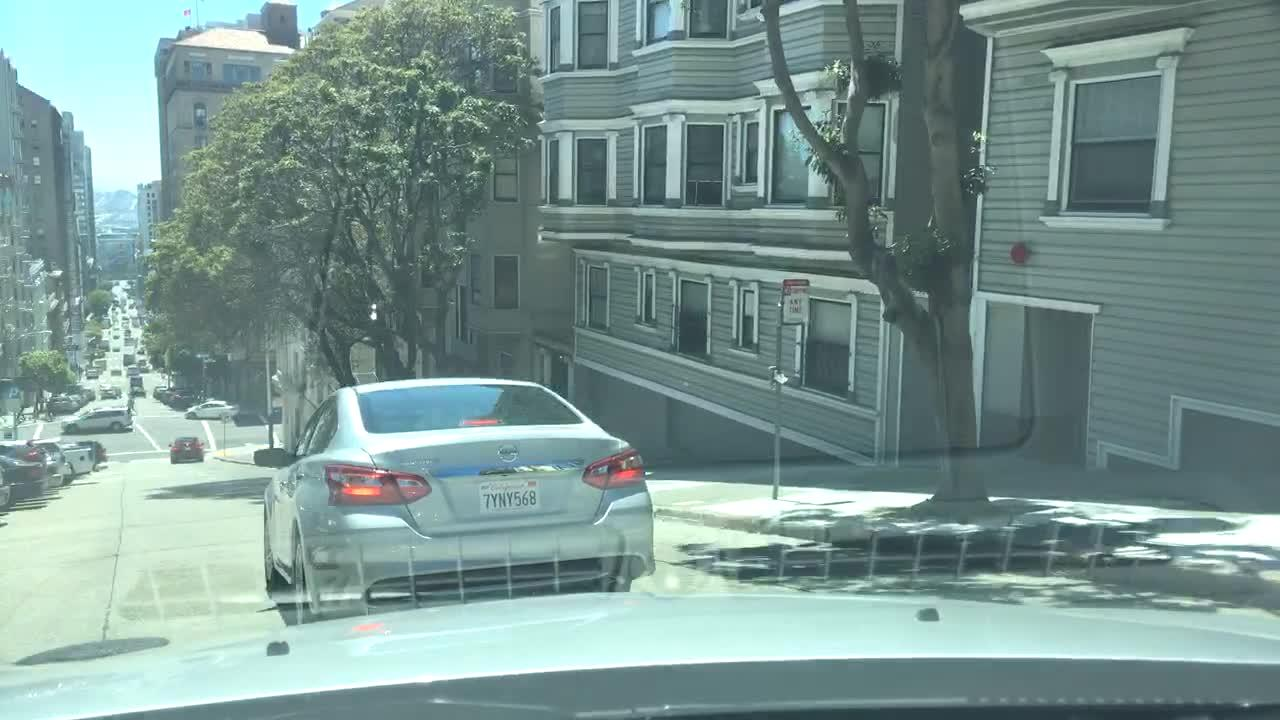Nissan: (489, 437, 530, 470)
